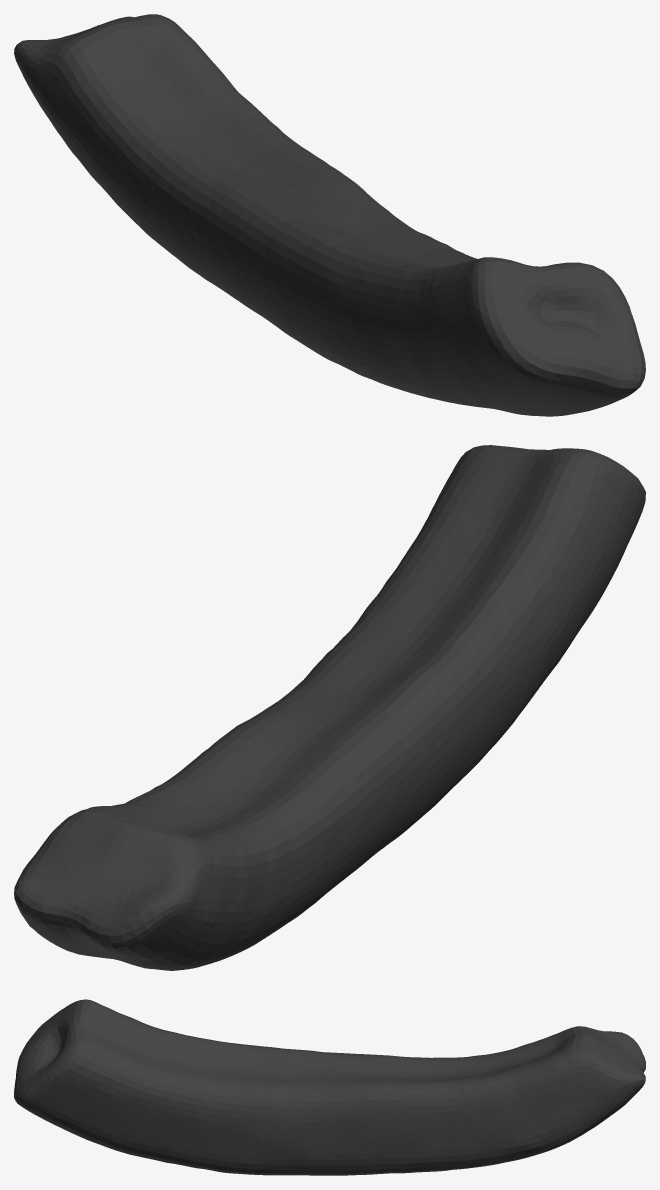
File: tooth_rabbit_202_low.glb
The picture shows the model from 3 angles, top to bottom: view 1: azimuth 30°, elevation 25°; view 2: azimuth 150°, elevation 25°; view 3: azimuth 270°, elevation 25°; orthographic projection. The views are drawn at different scales.
Parts seen in each view (by area): view 1: tooth_rabbit_202_low; view 2: tooth_rabbit_202_low; view 3: tooth_rabbit_202_low.
Part boxes in pixels (x1,y1,x2,y2): tooth_rabbit_202_low: [14, 14, 645, 416]; tooth_rabbit_202_low: [14, 445, 645, 970]; tooth_rabbit_202_low: [14, 999, 645, 1175].
Size of the model in its own units: 0.1546 by 0.1905 by 0.7308.
Materials: 1 (1 with a texture image).
